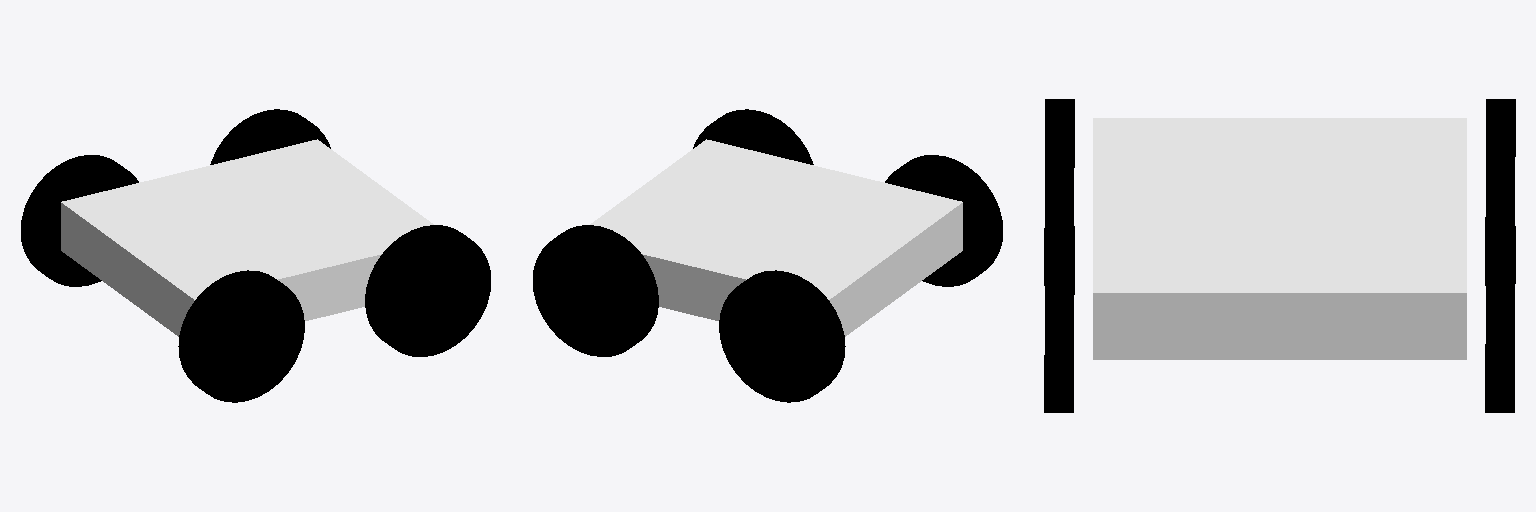
The robot description file, URDF, robot "diode_robot":
<?xml version="1.0" ?>
<robot name="diode_robot">

    <link name="base_link">
        <visual>
            <origin xyz=" 0 0 0.15" rpy="0 0 0" />
            <geometry>
                <box size="0.554 0.500 0.1"/>
            </geometry>
            <material name="white">
                <color rgba="1 1 1 1"/>
            </material>
        </visual>
    </link>   

    <joint name="left_wheel_joint" type="continuous">
        <origin xyz="-0.201 0.295 0.125" rpy="1.57 0 0"/>
        <parent link="base_link"/>
        <child link="left_wheel_link"/>
        <axis xyz="0 1 0"/>
    </joint>

    <link name="left_wheel_link">
        <visual>
            <origin xyz="0 0 0" rpy="0 0 0" />
            <geometry>
                <cylinder radius="0.125" length = "0.04"/>
            </geometry>
            <material name="black">
                <color rgba="0 0 0 1"/>
            </material>
        </visual>
    </link>

    <joint name="right_wheel_joint" type="continuous">
        <origin xyz="-0.201 -0.295 0.125" rpy="1.57 0 0"/>
        <parent link="base_link"/>
        <child link="right_wheel_link"/>
        <axis xyz="0 1 0"/>
    </joint>

    <link name="right_wheel_link">
        <visual>
            <origin xyz="0 0 0" rpy="0 0 0" />
            <geometry>
                <cylinder radius="0.125" length = "0.04"/>
            </geometry>
            <material name="black">
                <color rgba="0 0 0 1"/>
            </material>
        </visual>
    </link>

      <joint name="left_front_joint" type="continuous">
        <origin xyz="0.201 0.295 0.125" rpy="1.57 0 0"/>
        <parent link="base_link"/>
        <child link="left_front_link"/>
        <axis xyz="0 1 0"/>
    </joint>

    <link name="left_front_link">
        <visual>
            <origin xyz="0 0 0" rpy="0 0 0" />
            <geometry>
                <cylinder radius="0.125" length = "0.04"/>
            </geometry>
            <material name="black">
                <color rgba="0 0 0 1"/>
            </material>
        </visual>
    </link>

    <joint name="right_front_joint" type="continuous">
        <origin xyz="0.201 -0.295 0.125" rpy="1.57 0 0"/>
        <parent link="base_link"/>
        <child link="right_front_link"/>
        <axis xyz="0 1 0"/>
    </joint>

    <link name="right_front_link">
        <visual>
            <origin xyz="0 0 0" rpy="0 0 0" />
            <geometry>
                <cylinder radius="0.125" length = "0.04"/>
            </geometry>
            <material name="black">
                <color rgba="0 0 0 1"/>
            </material>
        </visual>
    </link>


</robot>

--- Render facts (derived) ---
The picture shows the robot from 3 angles, left to right: view 1: azimuth 30°, elevation 25°; view 2: azimuth 150°, elevation 25°; view 3: azimuth 270°, elevation 25°; orthographic projection.
Robot: diode_robot — 5 links, 4 joints (4 continuous); root link base_link; default pose: every joint at zero.
Visible links, largest first — view 1: base_link, right_front_link, right_wheel_link, left_wheel_link, left_front_link; view 2: base_link, left_front_link, left_wheel_link, right_wheel_link, right_front_link; view 3: base_link, left_front_link, right_front_link, left_wheel_link, right_wheel_link.
Boxes of the visible links, x1=… form: base_link: x1=61, y1=139, x2=433, y2=336; right_front_link: x1=365, y1=225, x2=490, y2=356; right_wheel_link: x1=178, y1=270, x2=304, y2=402; left_wheel_link: x1=21, y1=155, x2=138, y2=286; left_front_link: x1=210, y1=109, x2=330, y2=164; base_link: x1=590, y1=139, x2=962, y2=336; left_front_link: x1=533, y1=225, x2=658, y2=356; left_wheel_link: x1=719, y1=270, x2=845, y2=402; right_wheel_link: x1=885, y1=155, x2=1002, y2=286; right_front_link: x1=693, y1=109, x2=813, y2=164; base_link: x1=1093, y1=118, x2=1466, y2=359; left_front_link: x1=1485, y1=226, x2=1515, y2=412; right_front_link: x1=1044, y1=226, x2=1074, y2=412; left_wheel_link: x1=1485, y1=99, x2=1515, y2=285; right_wheel_link: x1=1044, y1=99, x2=1074, y2=285.
Size in the robot's own frame: 0.652 by 0.6302 by 0.25 metres.
Geometry: primitives only (box / cylinder / sphere), no mesh files.